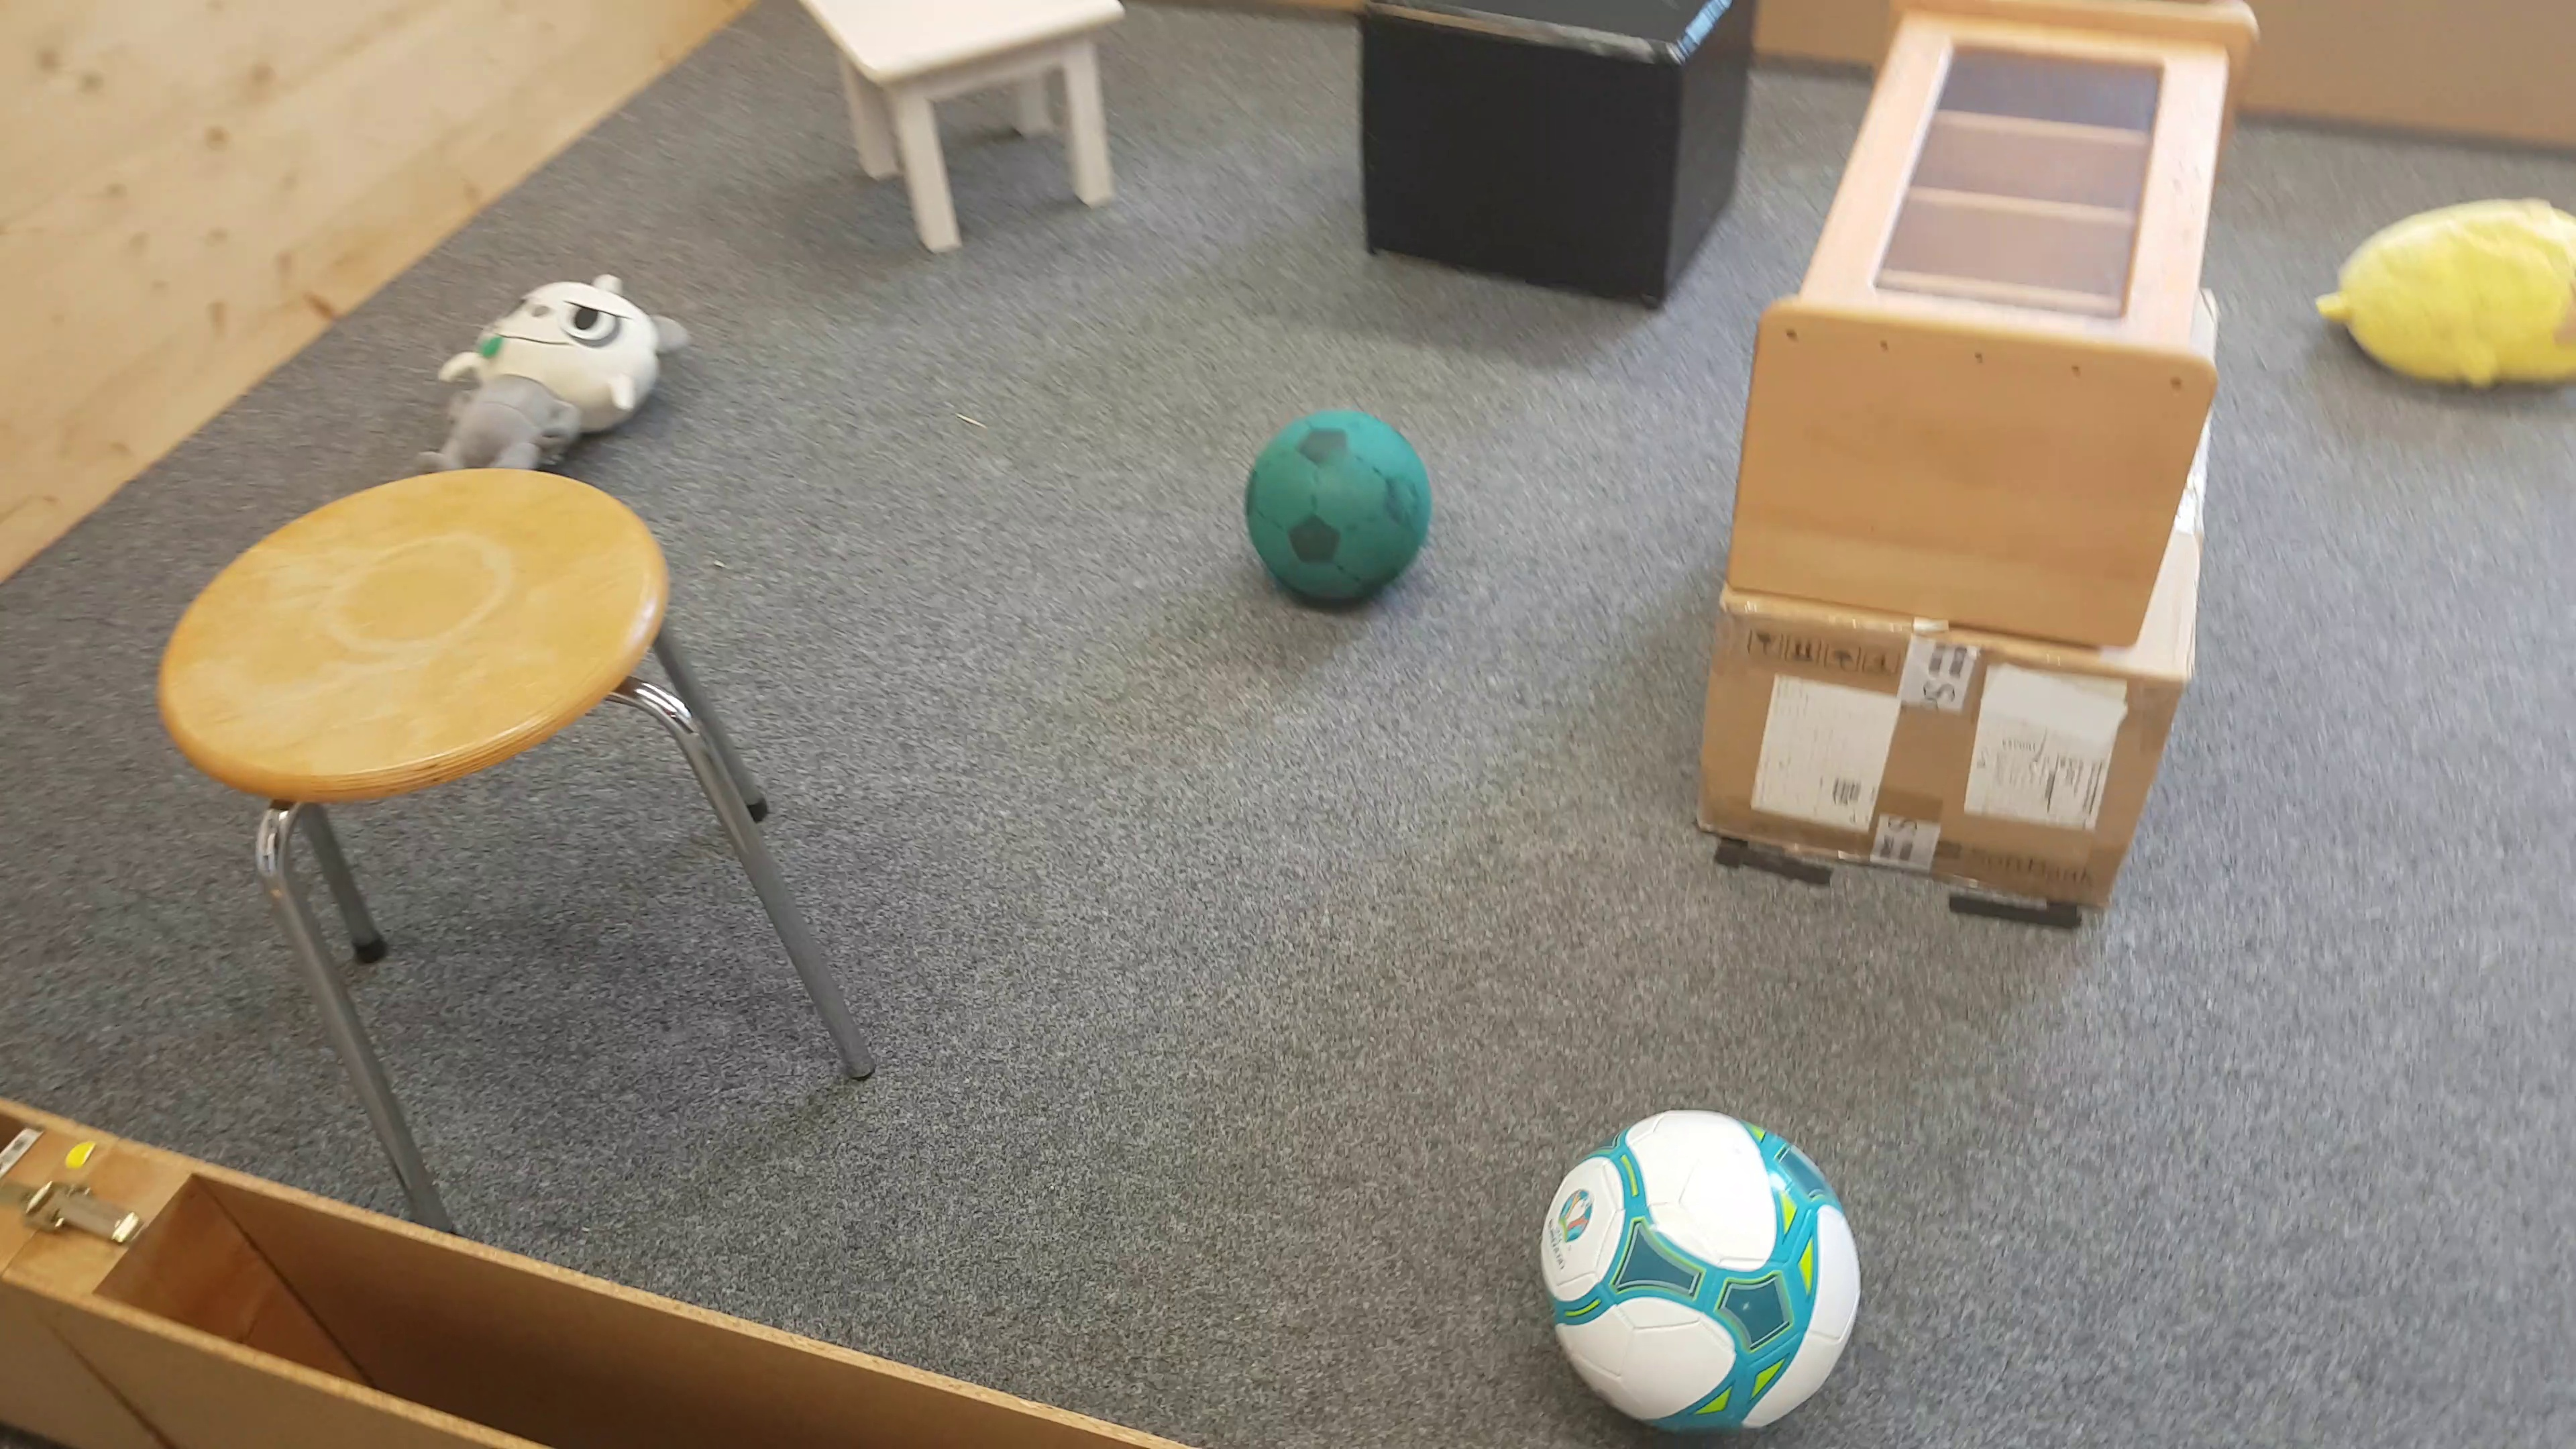grasp: (2316, 195, 2576, 402), (432, 276, 692, 472)
kick: (1541, 1113, 1863, 1442), (1242, 414, 1431, 616)
push: (1364, 5, 1748, 310)
